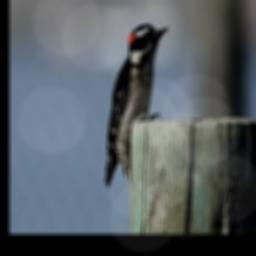Woodpecker: (103, 22, 169, 185)
